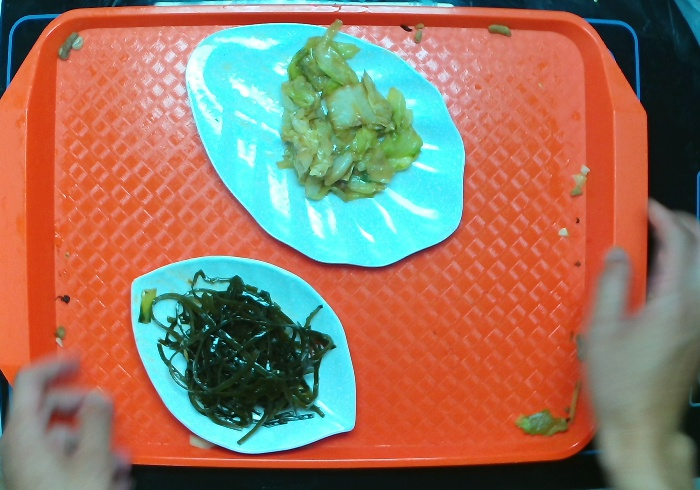RJxy-Bai_Ye_Pan: (186, 20, 469, 273)
RJxy-Da_Du_Pan: (128, 254, 362, 453)
